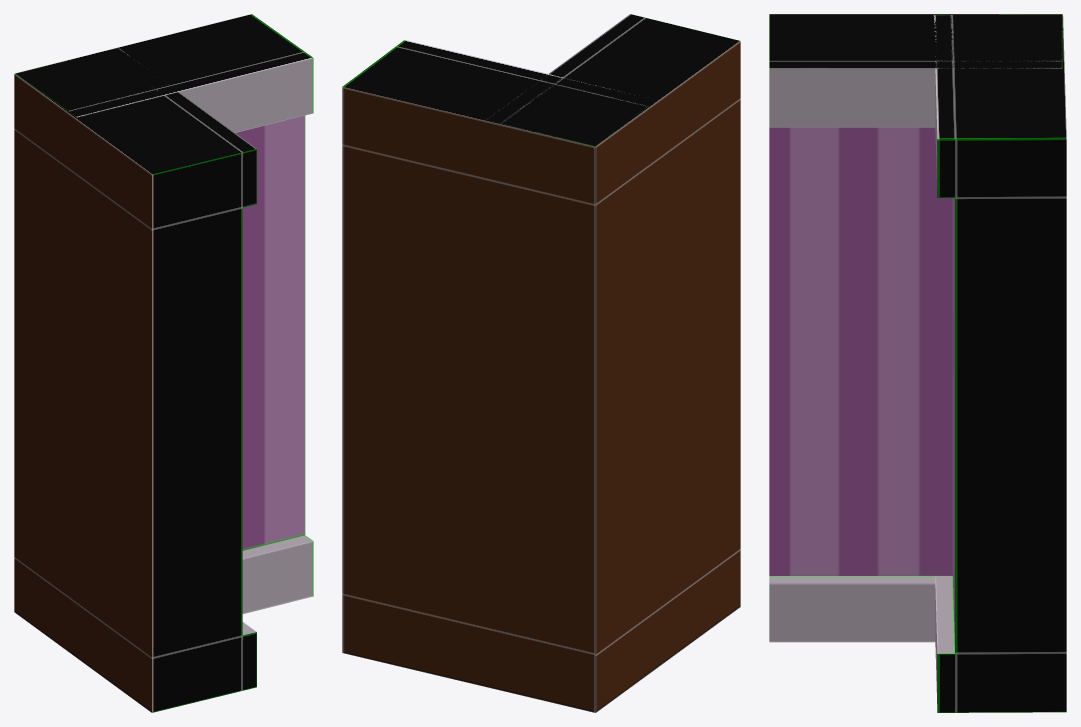
File: Mur 2 bis.FBX
3 views of the same model, side by side, from view 1: azimuth 30°, elevation 25°; view 2: azimuth 150°, elevation 25°; view 3: azimuth 270°, elevation 25° (orthographic). The views are drawn at different scales.
Parts seen in each view (by area): view 1: Mur 2; view 2: Mur 2; view 3: Mur 2.
Part boxes in pixels (<box>): Mur 2: <box>14,14,313,712</box>; Mur 2: <box>342,14,740,712</box>; Mur 2: <box>769,14,1066,712</box>.
Size of the model in its own units: 154 by 328 by 154.
Materials: 1 (1 with a texture image).
